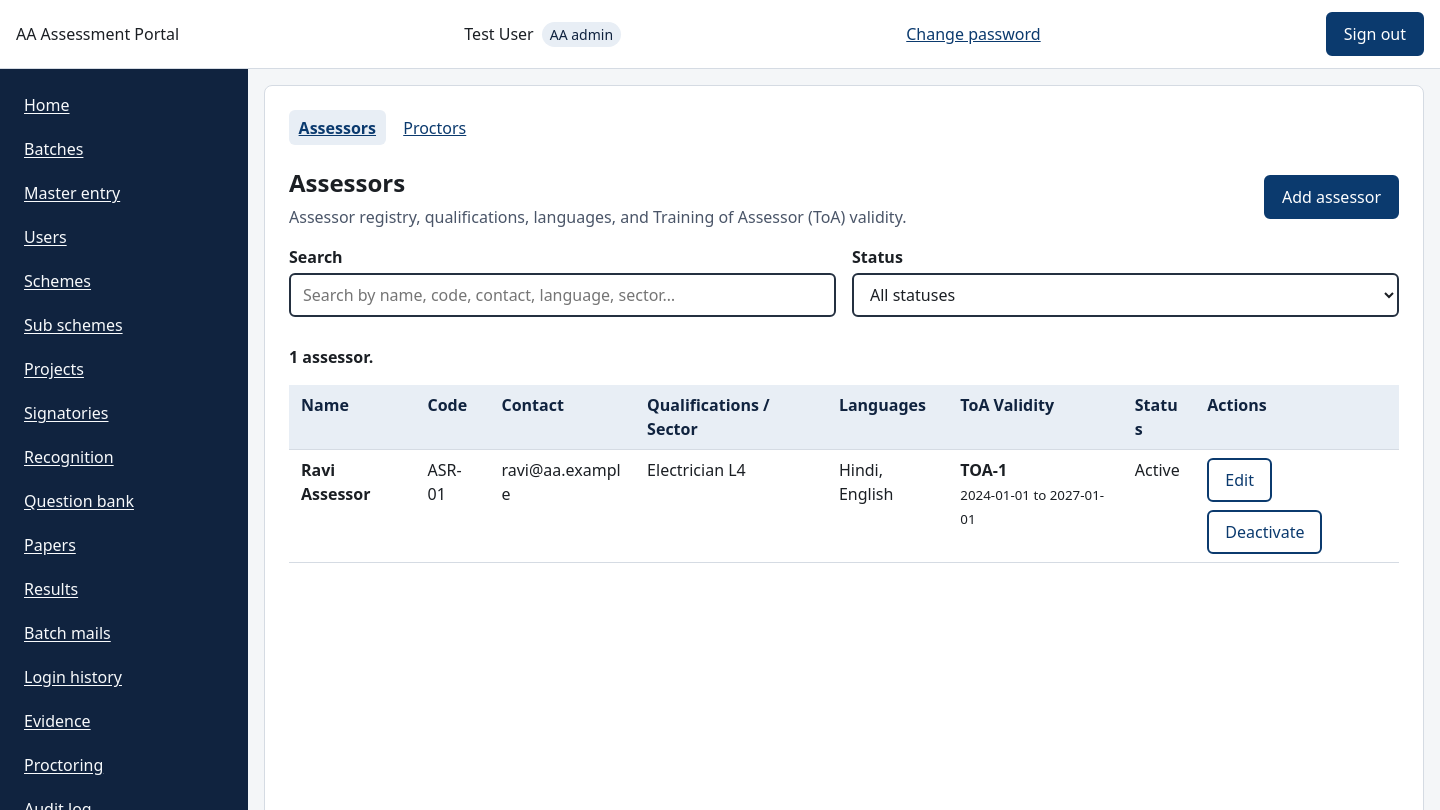
it: edits an assessor including modifying the language list
Expected: the text "Ravi Assessor" is shown, left=289, top=450, right=416, bottom=563
Click the button "Edit" at (1240, 480), box left=1207, top=458, right=1272, bottom=502
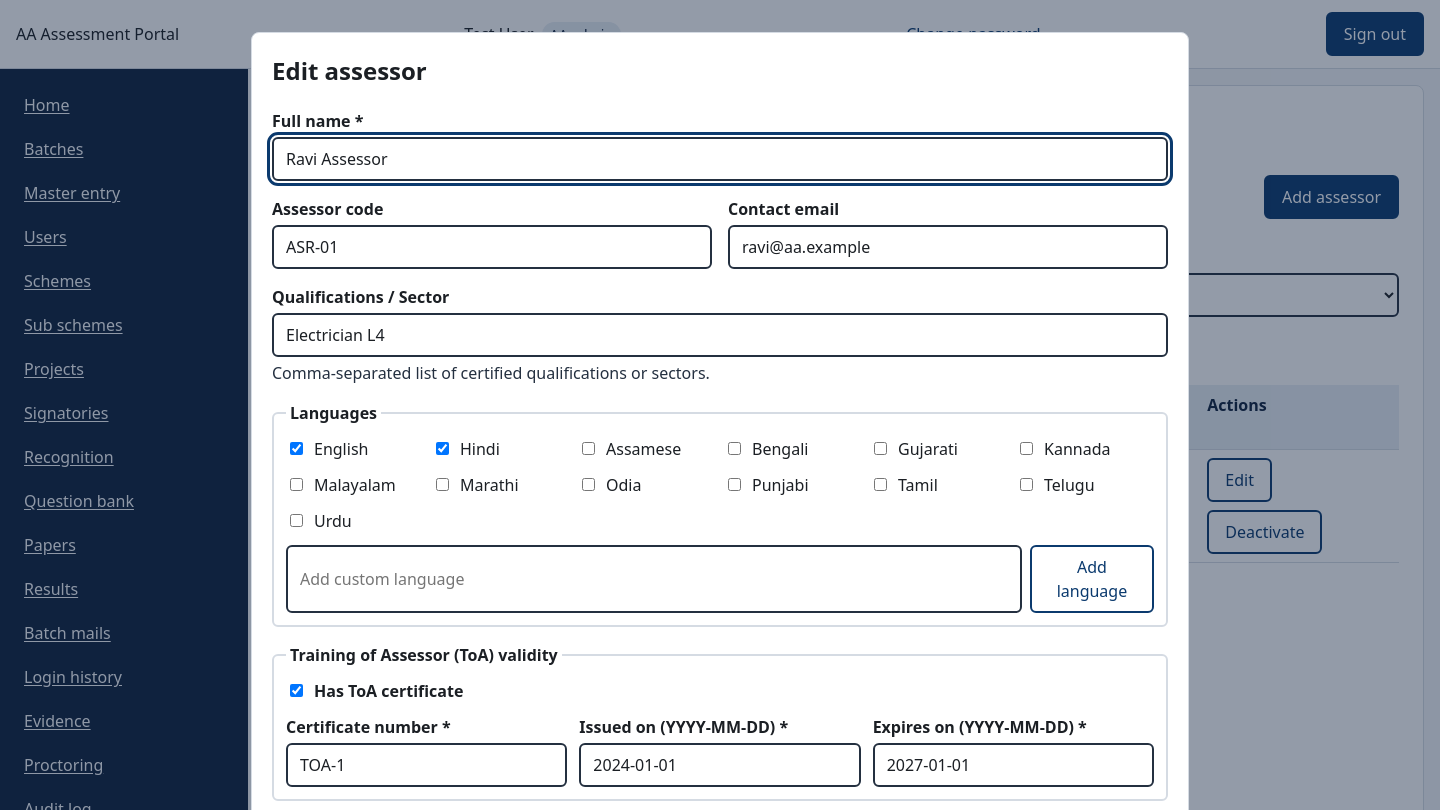
Result: the dialog "Edit assessor" is shown
Note: Edit language list: uncheck English, check Marathi
Click the checkbox labelled "English" at (296, 449), box left=290, top=442, right=303, bottom=455
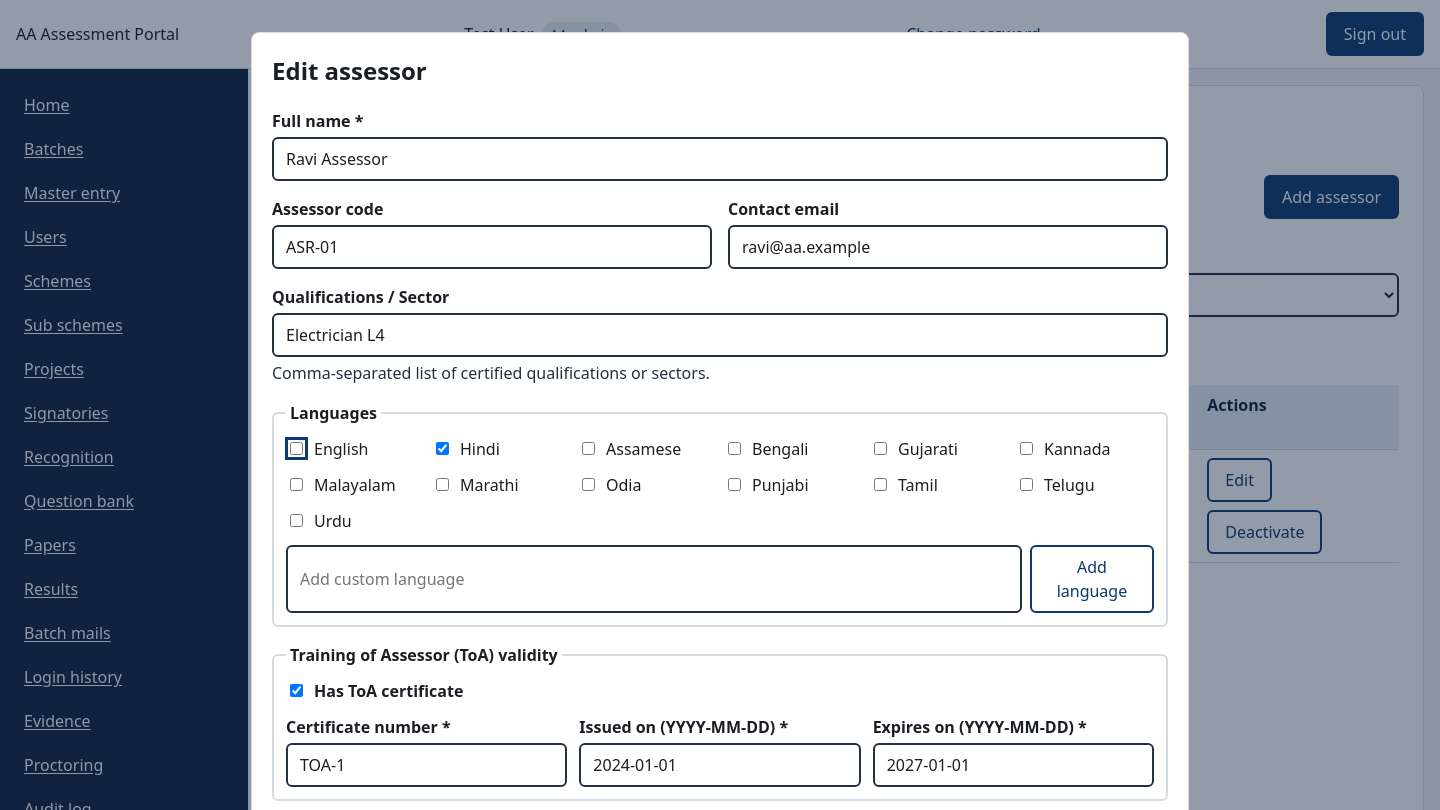
Click the checkbox labelled "Marathi" at (442, 485), box left=436, top=478, right=449, bottom=491
(page scrolled)
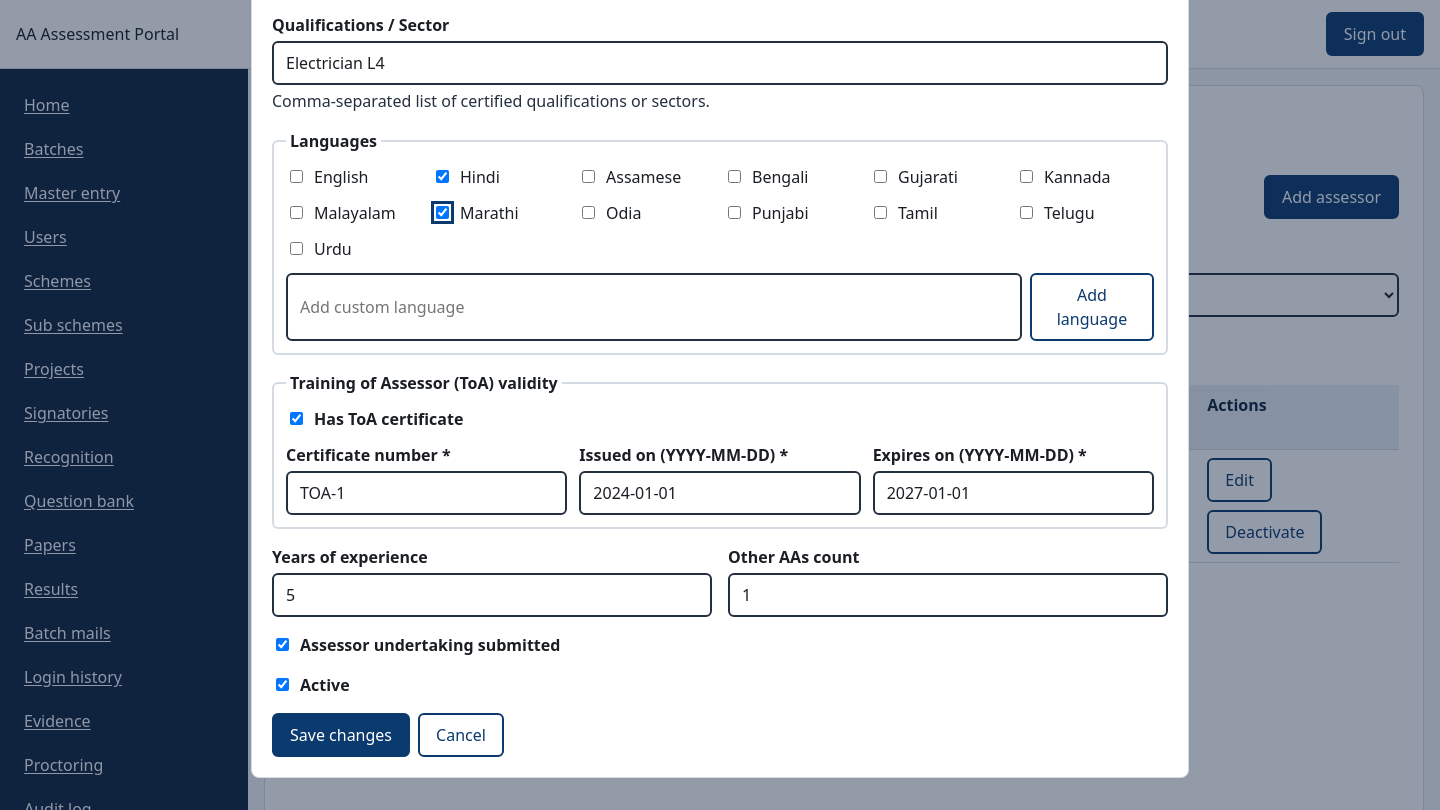
Click the button "Save changes" at (341, 735), box left=272, top=713, right=410, bottom=757
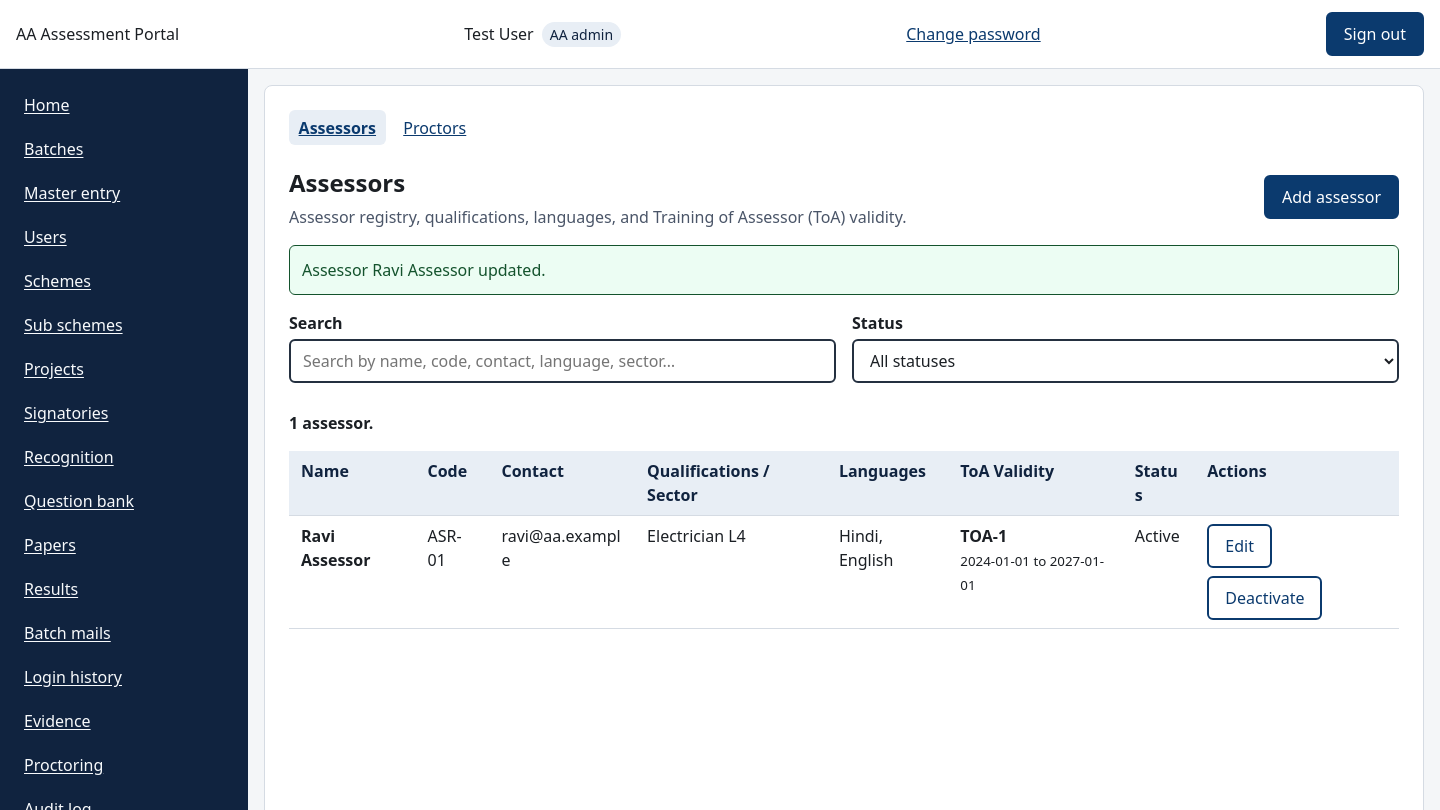
Result: the message reads "Assessor Ravi Assessor updated." at left=302, top=259, right=546, bottom=281
